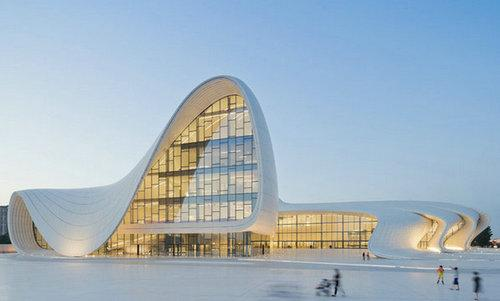buildings: (81, 95, 288, 247)
